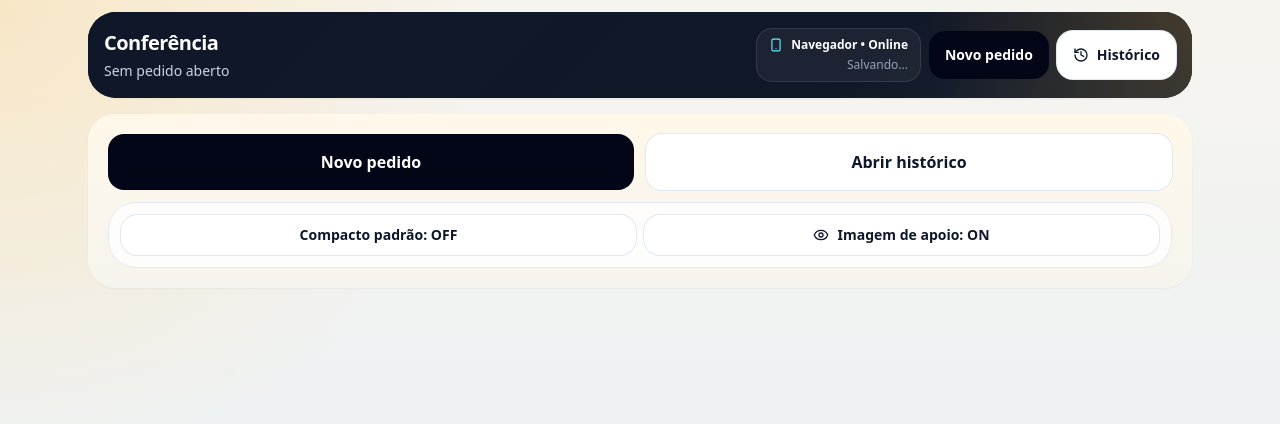
Scenario: App integration › não semeia histórico demo em banco limpo
Click the button "Abrir histórico" at (909, 162), box [646,134,1172,190]
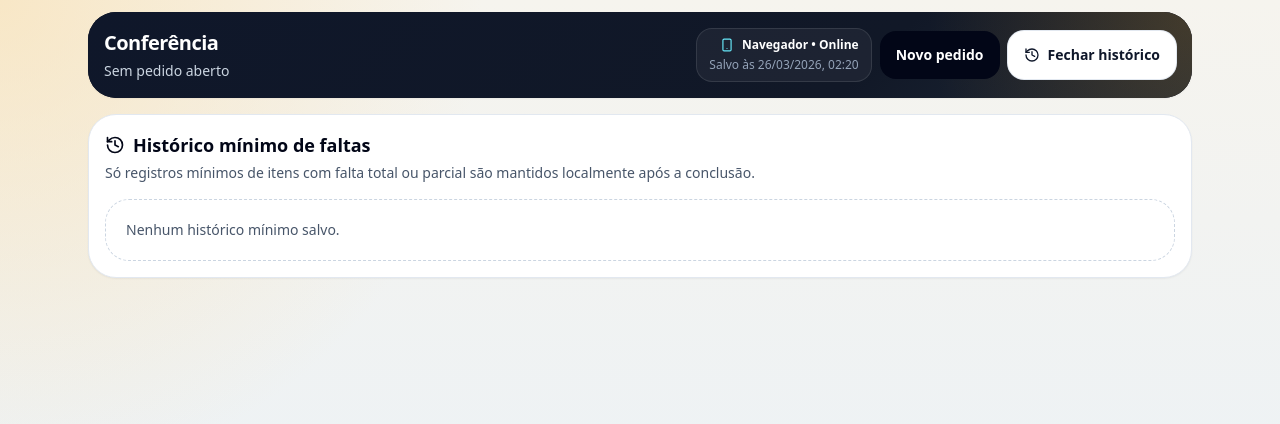
Expected: the text "Nenhum histórico mínimo salvo." is shown, [105,199,1175,261]
